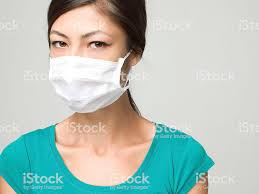mask: (46, 7, 127, 111)
